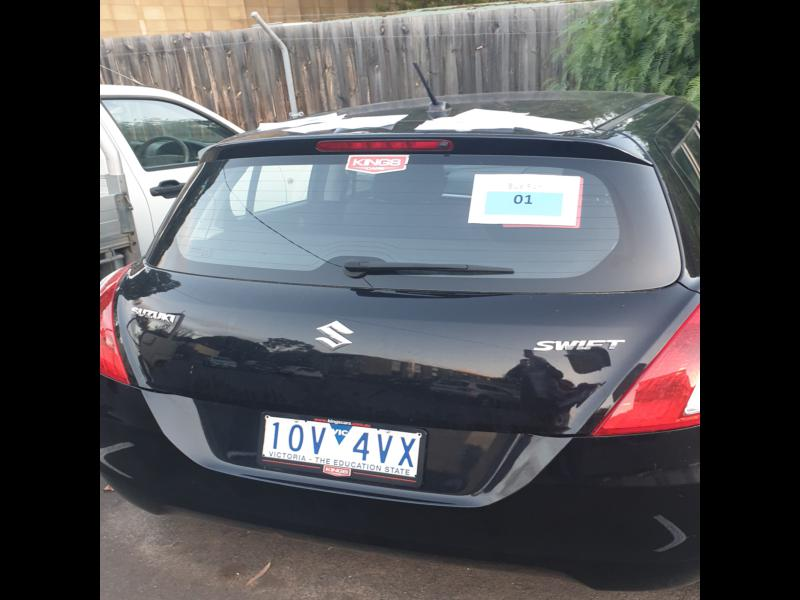BusRun: (483, 190, 563, 215)
PlateNo: (266, 415, 422, 478)
